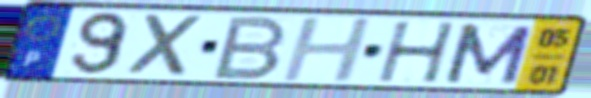9: (68, 9, 132, 78)
B: (208, 14, 292, 81)
H: (278, 16, 377, 84), (375, 20, 460, 85)
M: (440, 22, 537, 87)
X: (124, 11, 210, 79)
